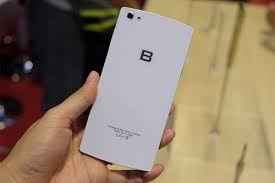bphone: (75, 4, 197, 175)
